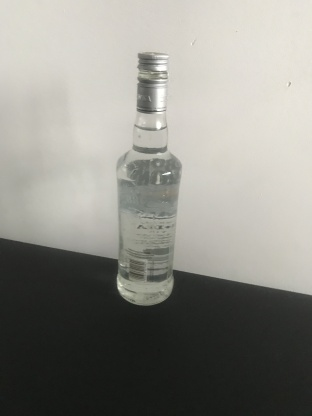nakretka: (135, 50, 169, 114)
